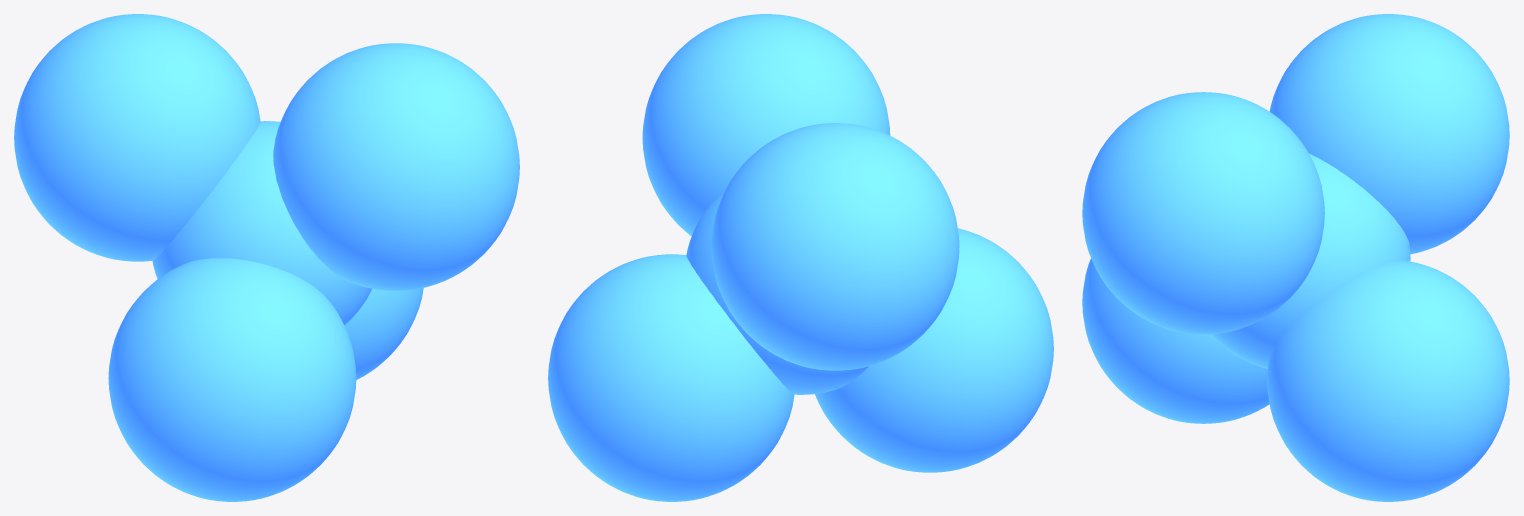
File: ccl4.glb
3 views of the same model, side by side, from view 1: azimuth 30°, elevation 25°; view 2: azimuth 150°, elevation 25°; view 3: azimuth 270°, elevation 25° (orthographic). The views are drawn at different scales.
Parts seen in each view (by area): view 1: count (×5); view 2: count (×5); view 3: count (×5).
Boxes of the visible parts, x1,y1,x2,y2 form: count (×5): [14, 14, 519, 501]; count (×5): [548, 14, 1053, 501]; count (×5): [1082, 14, 1509, 501].
Bounding box in the file's own units: 0.2537 × 0.2537 × 0.2537.
